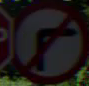Don't turn right: (16, 11, 79, 75)
